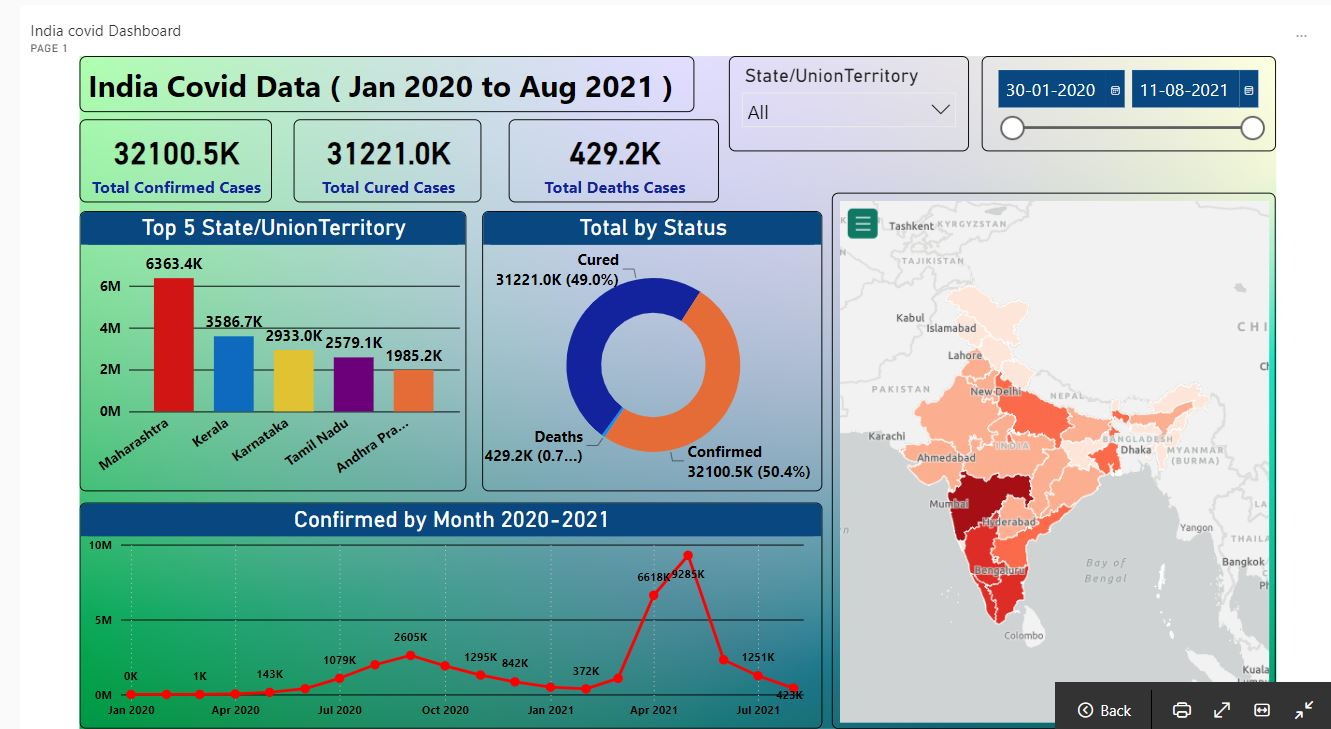

The dashboard page shown, as its layout file describes it:
{"tool":"powerbi","page":{"name":"Page 1","canvas":[1280,720],"ordinal":0},"visuals":[{"type":"clusteredColumnChart","title":"Top 5 State/UnionTerritory","fields":{"Category":["Sheet1.State/UnionTerritory"],"Y":["Sum(Sheet1.Confirmed added)"]},"box":[0,165.8,413.9,300.5],"z":0},{"type":"card","fields":{"Values":["Sum(Sheet1.Confirmed added)"]},"box":[0,68,205.5,89.3],"z":1000},{"type":"card","fields":{"Values":["Sum(Sheet1.Deaths added)"]},"box":[459.2,68,225.4,89.3],"z":2000},{"type":"card","fields":{"Values":["Sum(Sheet1.Cured added)"]},"box":[229.6,68,201.3,89.3],"z":3000},{"type":"esriVisual","fields":{"Location":["Sheet1.State/UnionTerritory"],"Color":["Sum(Sheet1.Confirmed added)"]},"box":[805,146,474.8,574],"z":4000},{"type":"lineChart","title":"Confirmed by Month 2020-2021","fields":{"Y":["Sum(Sheet1.Confirmed added)"],"Category":["Sheet1.Date.Variation.Date Hierarchy.Year","Sheet1.Date.Variation.Date Hierarchy.Month"]},"box":[0,477.6,795.1,242.4],"z":5000},{"type":"donutChart","title":"Total by Status","fields":{"Y":["Sum(Sheet1.Deaths added)","Sum(Sheet1.Cured added)","Sum(Sheet1.Confirmed added)"]},"box":[430.9,165.8,364.3,300.5],"z":6000},{"type":"slicer","fields":{"Values":["Sheet1.Date"]},"box":[965.2,0,314.6,102],"z":7000},{"type":"textbox","box":[0,0,657.6,59.5],"z":8000},{"type":"slicer","fields":{"Values":["Sheet1.State/UnionTerritory"]},"box":[694.5,0,256.5,102],"z":9000}]}

Visuals, with their boxes on the page's 1280x720 design canvas (x1, y1, x2, y2). These are canvas units, not pixel positions in the 1331x729 screenshot, which may show the page scaled, cropped or inside an application window:
"Top 5 State/UnionTerritory" clusteredColumnChart: 0 166 414 466
card - Sum(Sheet1.Confirmed added): 0 68 206 157
card - Sum(Sheet1.Deaths added): 459 68 685 157
card - Sum(Sheet1.Cured added): 230 68 431 157
esriVisual - Sheet1.State/UnionTerritory x Sum(Sheet1.Confirmed added): 805 146 1280 720
"Confirmed by Month 2020-2021" lineChart: 0 478 795 720
"Total by Status" donutChart: 431 166 795 466
slicer - Sheet1.Date: 965 0 1280 102
textbox: 0 0 658 60
slicer - Sheet1.State/UnionTerritory: 694 0 951 102
